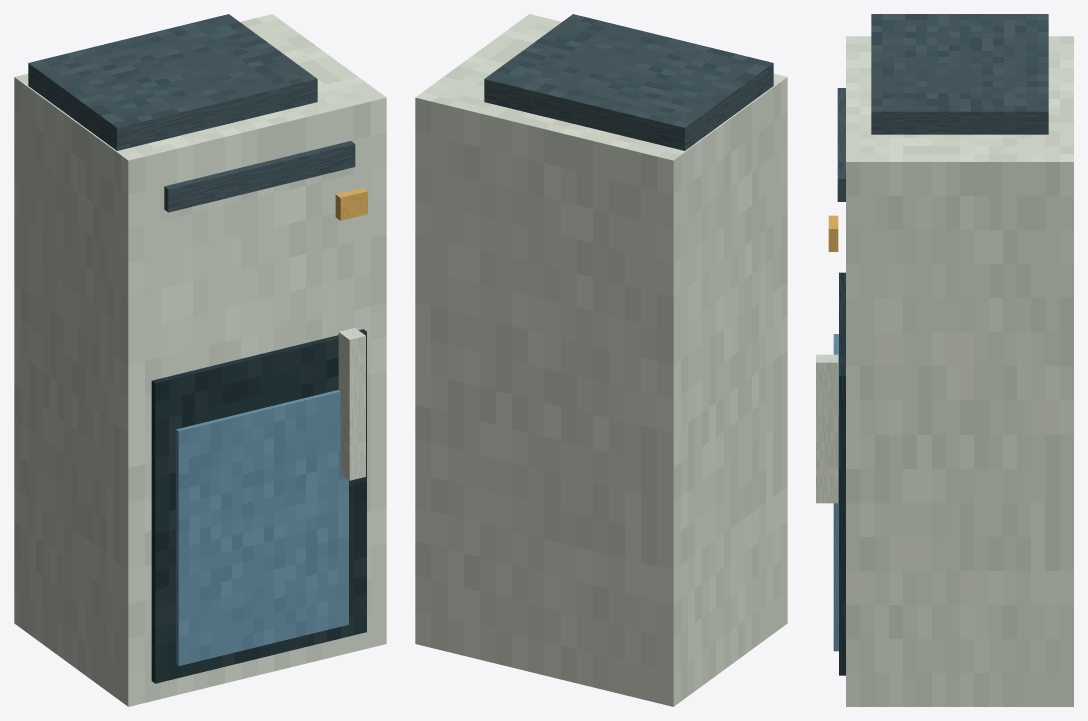
Rendered from freezer.glb.
The picture shows the model from 3 angles, left to right: view 1: azimuth 30°, elevation 25°; view 2: azimuth 150°, elevation 25°; view 3: azimuth 270°, elevation 25°; orthographic projection.
Parts seen in each view (by area): view 1: block-0, block-2, block-5, block-1, block-3, block-6, block-4; view 2: block-0, block-5; view 3: block-0, block-5, block-6, block-1, block-2, block-3.
Part boxes in pixels (<box>): block-0: <box>14,14,386,706</box>; block-2: <box>176,390,348,666</box>; block-5: <box>28,14,317,150</box>; block-1: <box>151,329,366,683</box>; block-3: <box>164,141,355,212</box>; block-6: <box>338,328,365,480</box>; block-4: <box>335,188,367,220</box>; block-0: <box>415,14,787,706</box>; block-5: <box>484,14,773,150</box>; block-0: <box>846,36,1073,706</box>; block-5: <box>871,14,1048,134</box>; block-6: <box>816,354,838,503</box>; block-1: <box>839,272,845,675</box>; block-2: <box>833,334,838,651</box>; block-3: <box>837,88,845,201</box>.
Size of the model in its own units: 0.94 by 1.98 by 0.815.
Materials: 5 (5 with a texture image).
